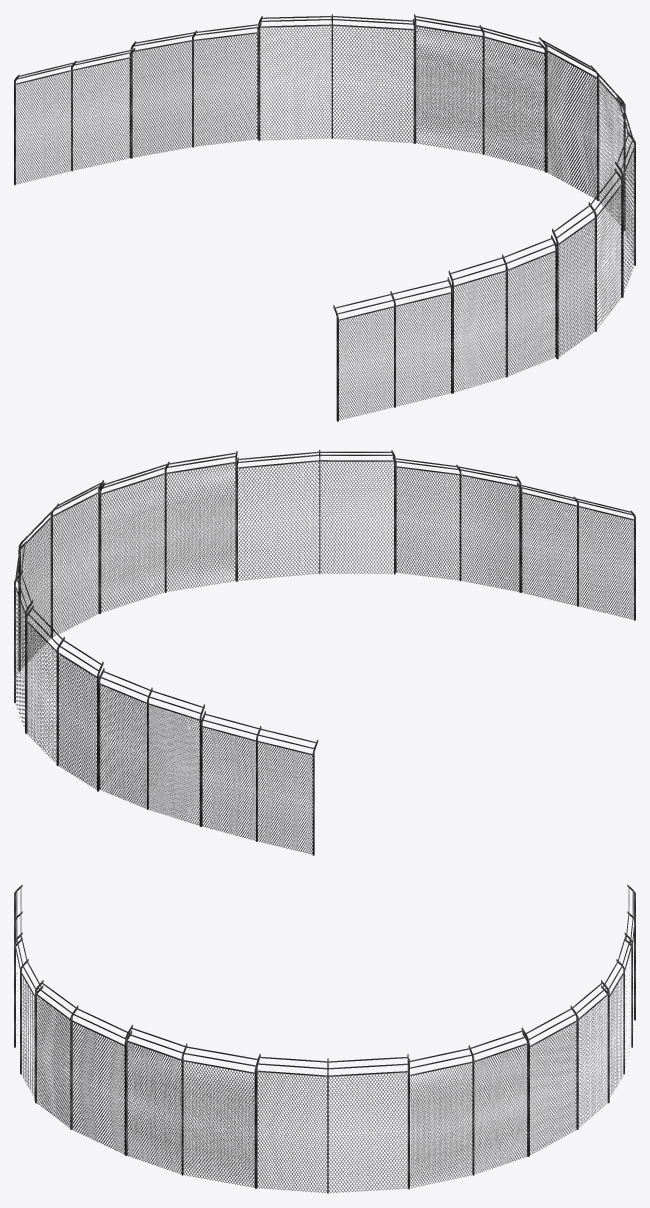
The model's file is chain_link_fence_curve.fbx.
The picture shows the model from 3 angles, top to bottom: view 1: azimuth 30°, elevation 25°; view 2: azimuth 150°, elevation 25°; view 3: azimuth 270°, elevation 25°; orthographic projection. The views are drawn at different scales.
Parts seen in each view (by area): view 1: Plane.017, Plane.018, Plane.015, Plane.013, Plane.005, Plane.006, Plane.019, Plane.014, Plane.010, Plane.012, Plane.002, Plane.011 (+6 smaller); view 2: Plane.004, Plane.009, Plane.002, Plane.008, Plane.014, Plane.003, Plane.012, Plane.010, Plane.006, Plane.011, Plane.016, Plane.013 (+4 smaller); view 3: Plane.011, Plane.008, Plane.019, Plane.009, Plane.018, Plane.007, Plane.004, Plane.016, Plane.010, Plane.017, Plane.006, Plane.014 (+2 smaller).
Boxes of the visible parts, box(x1,y1,x2,y2) form: Plane.017: box(260, 26, 413, 143); Plane.018: box(416, 26, 544, 170); Plane.015: box(132, 33, 257, 157); Plane.013: box(16, 58, 130, 184); Plane.005: box(339, 293, 451, 420); Plane.006: box(454, 252, 555, 392); Plane.019: box(416, 26, 544, 170); Plane.014: box(132, 34, 257, 156); Plane.010: box(546, 52, 623, 224); Plane.012: box(16, 60, 130, 183); Plane.002: box(454, 253, 555, 391); Plane.011: box(547, 52, 623, 222); Plane.004: box(238, 461, 393, 580); Plane.009: box(101, 463, 235, 612); Plane.002: box(396, 467, 519, 591); Plane.008: box(101, 463, 235, 611); Plane.014: box(99, 685, 199, 825); Plane.003: box(521, 493, 633, 619); Plane.012: box(202, 727, 312, 854); Plane.010: box(21, 494, 98, 668); Plane.006: box(396, 468, 519, 590); Plane.011: box(21, 495, 98, 667); Plane.016: box(26, 623, 96, 789); Plane.013: box(202, 728, 312, 853); Plane.011: box(257, 1072, 407, 1193); Plane.008: box(126, 1042, 254, 1187); Plane.019: box(410, 1045, 527, 1188); Plane.009: box(127, 1042, 254, 1186); Plane.018: box(410, 1044, 527, 1186); Plane.007: box(36, 996, 124, 1153); Plane.004: box(36, 996, 124, 1153); Plane.016: box(530, 996, 608, 1154); Plane.010: box(257, 1072, 407, 1192); Plane.017: box(530, 996, 607, 1153); Plane.006: box(21, 974, 34, 1098); Plane.014: box(609, 956, 629, 1096).
Bounding box in the file's own units: 43212 × 13341 × 57081.
